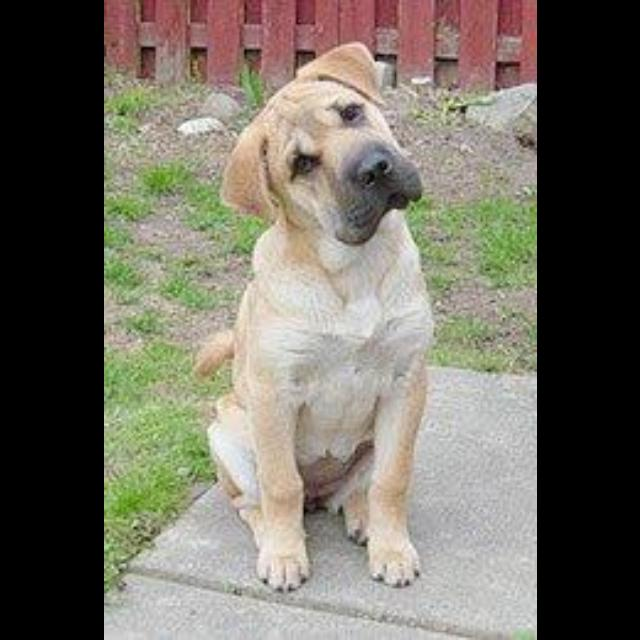bullmastiff: (191, 41, 434, 594)
